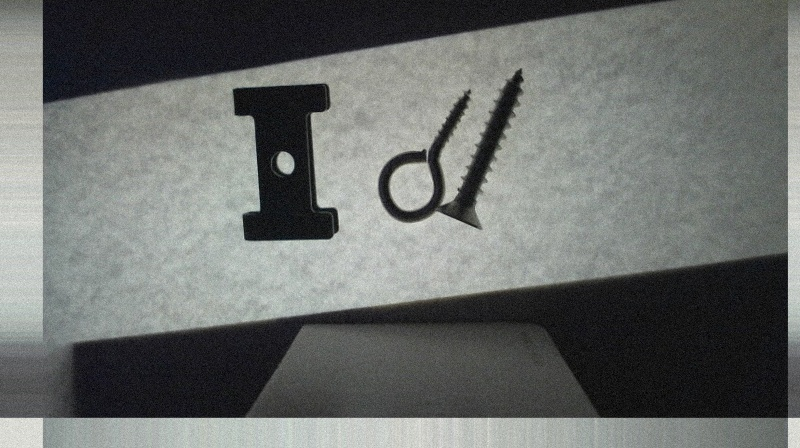O001: (377, 88, 471, 222)
O002: (228, 80, 339, 245)
S001: (436, 65, 525, 231)
